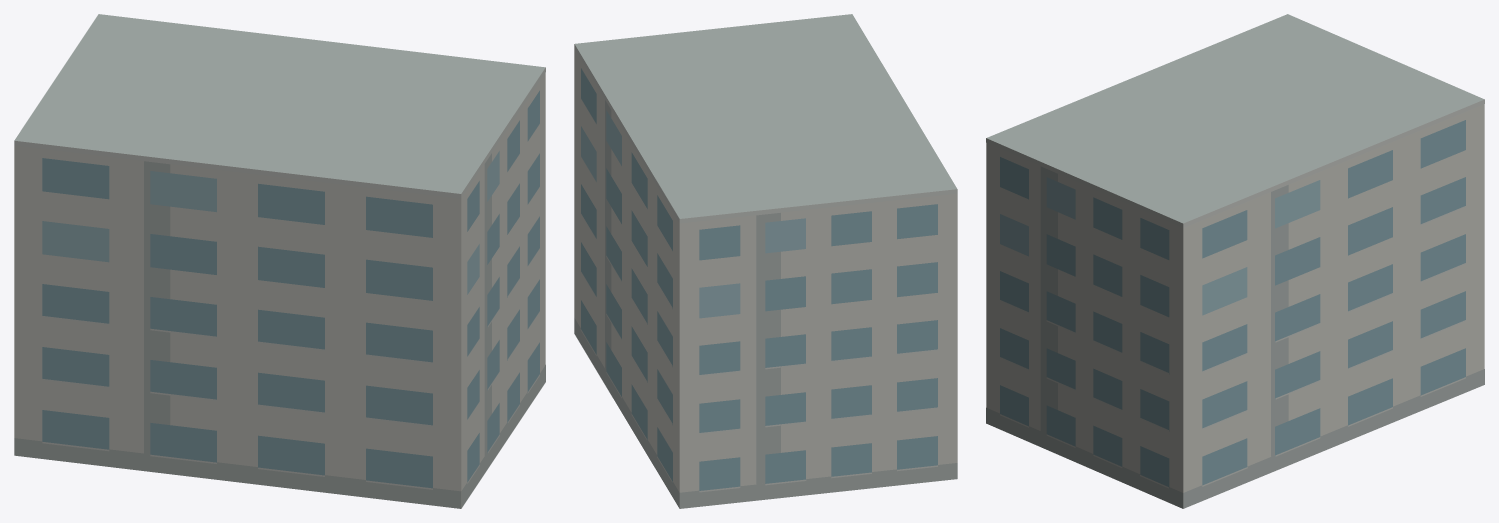
The model's file is residential-00acfc3d-3341-4d99-8887-9d8ce518b27b.glb.
3 views of the same model, side by side, from view 1: azimuth 30°, elevation 25°; view 2: azimuth 150°, elevation 25°; view 3: azimuth 270°, elevation 25° (orthographic). The views are drawn at different scales.
Visible parts, largest first — view 1: residential-00acfc3d-3341-4d99-8887-9d8ce518b27b.tmp; view 2: residential-00acfc3d-3341-4d99-8887-9d8ce518b27b.tmp; view 3: residential-00acfc3d-3341-4d99-8887-9d8ce518b27b.tmp.
Boxes of the visible parts, bbox=[...] form: residential-00acfc3d-3341-4d99-8887-9d8ce518b27b.tmp: bbox=[14, 14, 545, 508]; residential-00acfc3d-3341-4d99-8887-9d8ce518b27b.tmp: bbox=[574, 14, 957, 508]; residential-00acfc3d-3341-4d99-8887-9d8ce518b27b.tmp: bbox=[986, 14, 1484, 508].
Size of the model in its own units: 24.02 by 15.25 by 24.15.
